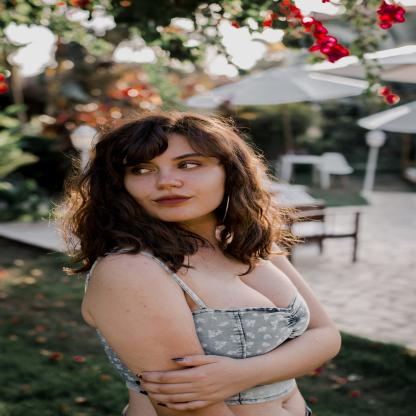Eye: (173, 159, 207, 171), (131, 166, 156, 176)
Mouth: (148, 192, 196, 207)
Nose: (155, 170, 187, 191)
